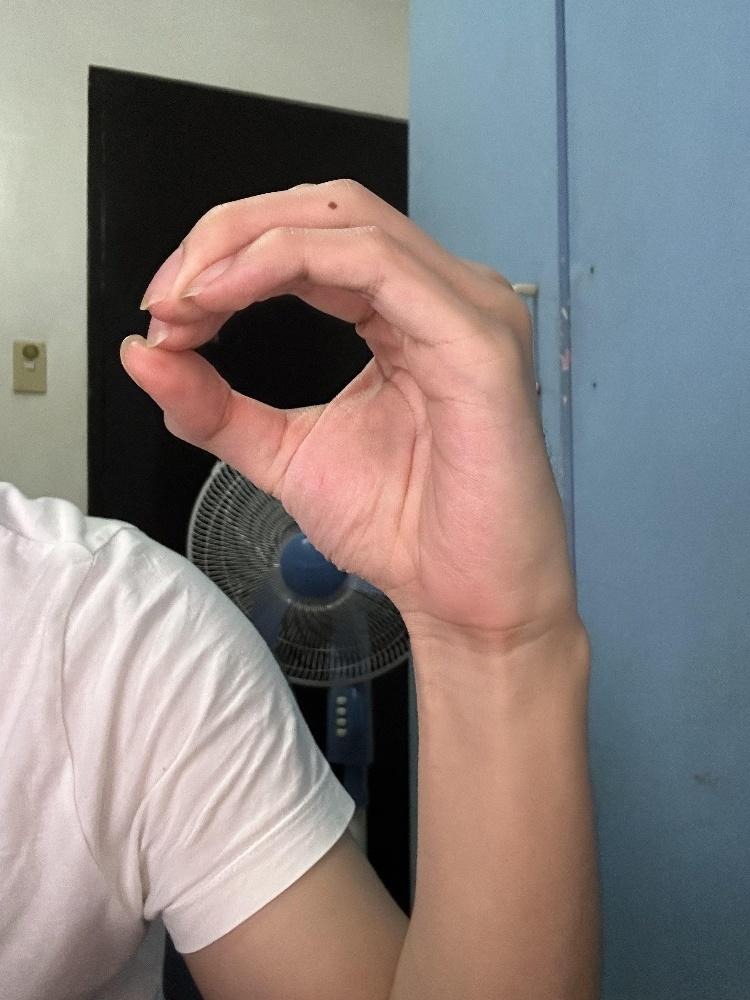o: (115, 170, 580, 640)
